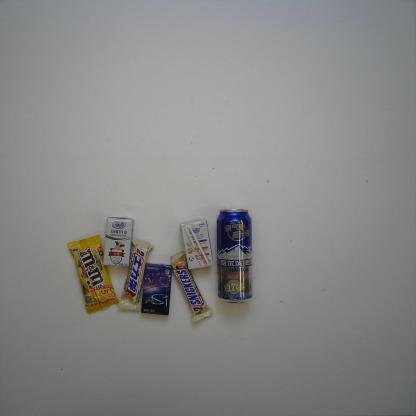Alcohol: (216, 208, 254, 305)
Chocolate: (67, 234, 120, 316), (169, 250, 212, 324), (118, 238, 154, 312)
Gum: (140, 262, 173, 316)
Milk: (180, 217, 214, 270), (103, 216, 134, 267)
